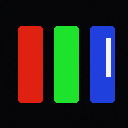4 line_v: (106, 38, 110, 76)
